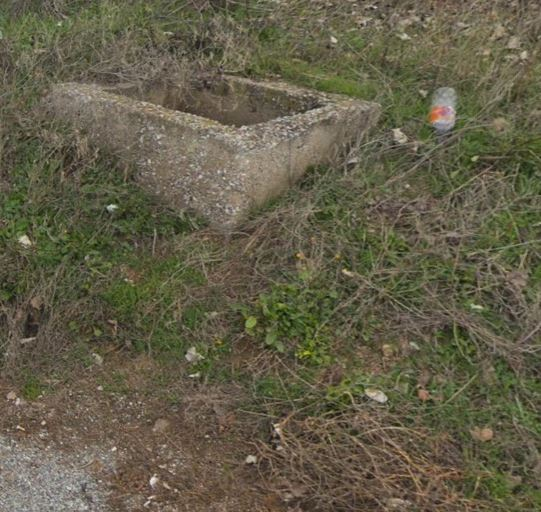trash: (418, 73, 472, 139)
